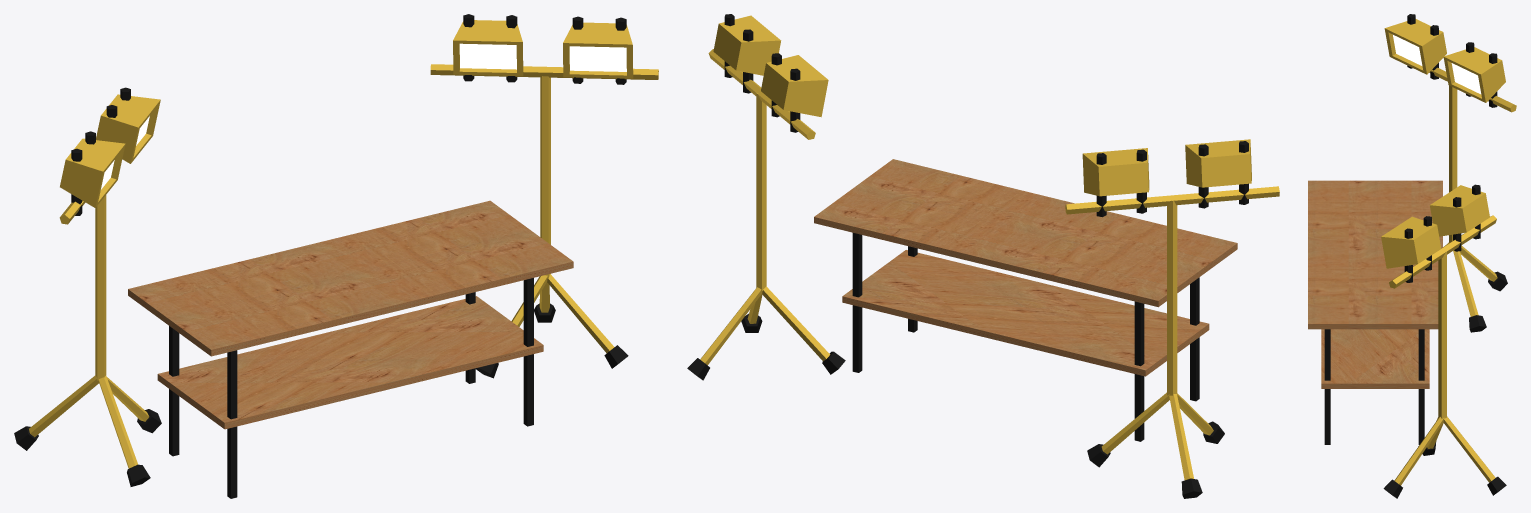
The model's file is Workbench.glb.
3 views of the same model, side by side, from view 1: azimuth 30°, elevation 25°; view 2: azimuth 150°, elevation 25°; view 3: azimuth 270°, elevation 25° (orthographic). The views are drawn at different scales.
Visible parts, largest first — view 1: Cube.001, Cube, Cube.008, Cube.009, Cube.007, Cube.006, Cylinder.003, Cylinder.015, Cube.005, Cube.004, Cube.003, Cylinder.016 (+3 smaller); view 2: Cube.001, Cube, Cube.009, Cube.007, Cube.006, Cube.008, Cylinder.003, Cylinder.004, Cylinder.015, Cube.002, Cube.003, Cylinder.016 (+5 smaller); view 3: Cube.001, Cube, Cube.007, Cube.006, Cube.008, Cube.009, Cylinder.015, Cylinder.016, Cylinder.003, Cube.004, Cube.002, Cylinder.013 (+5 smaller).
Part boxes in pixels (x1,y1,x2,y2): Cube.001: [128, 200, 573, 356]; Cube: [157, 296, 543, 429]; Cube.008: [563, 22, 633, 78]; Cube.009: [453, 20, 523, 76]; Cube.007: [60, 138, 125, 207]; Cube.006: [96, 94, 160, 163]; Cylinder.003: [95, 195, 106, 380]; Cylinder.015: [540, 76, 550, 278]; Cube.005: [227, 350, 237, 498]; Cube.004: [523, 278, 533, 426]; Cube.003: [169, 326, 179, 456]; Cylinder.016: [430, 64, 658, 79]; Cube.001: [814, 159, 1237, 307]; Cube: [842, 250, 1209, 376]; Cube.009: [761, 55, 828, 117]; Cube.007: [1185, 139, 1251, 187]; Cube.006: [1082, 148, 1149, 196]; Cube.008: [713, 15, 781, 75]; Cylinder.003: [1167, 200, 1177, 395]; Cylinder.004: [1065, 186, 1279, 214]; Cylinder.015: [756, 93, 766, 291]; Cube.002: [852, 233, 862, 372]; Cube.003: [1134, 301, 1144, 441]; Cylinder.016: [708, 49, 815, 139]; Cube.001: [1308, 180, 1442, 329]; Cube: [1321, 329, 1429, 388]; Cube.007: [1384, 19, 1446, 74]; Cube.006: [1443, 47, 1505, 102]; Cube.008: [1381, 216, 1441, 268]; Cube.009: [1429, 185, 1489, 236]; Cylinder.015: [1438, 251, 1446, 418]; Cylinder.016: [1389, 215, 1496, 288]; Cylinder.003: [1449, 85, 1457, 242]; Cube.004: [1324, 329, 1330, 444]; Cube.002: [1418, 329, 1424, 444]; Cylinder.013: [1394, 417, 1444, 485].
Size of the model in its own units: 6.08 by 3.26 by 2.26.
Materials: 4 (1 with a texture image).
